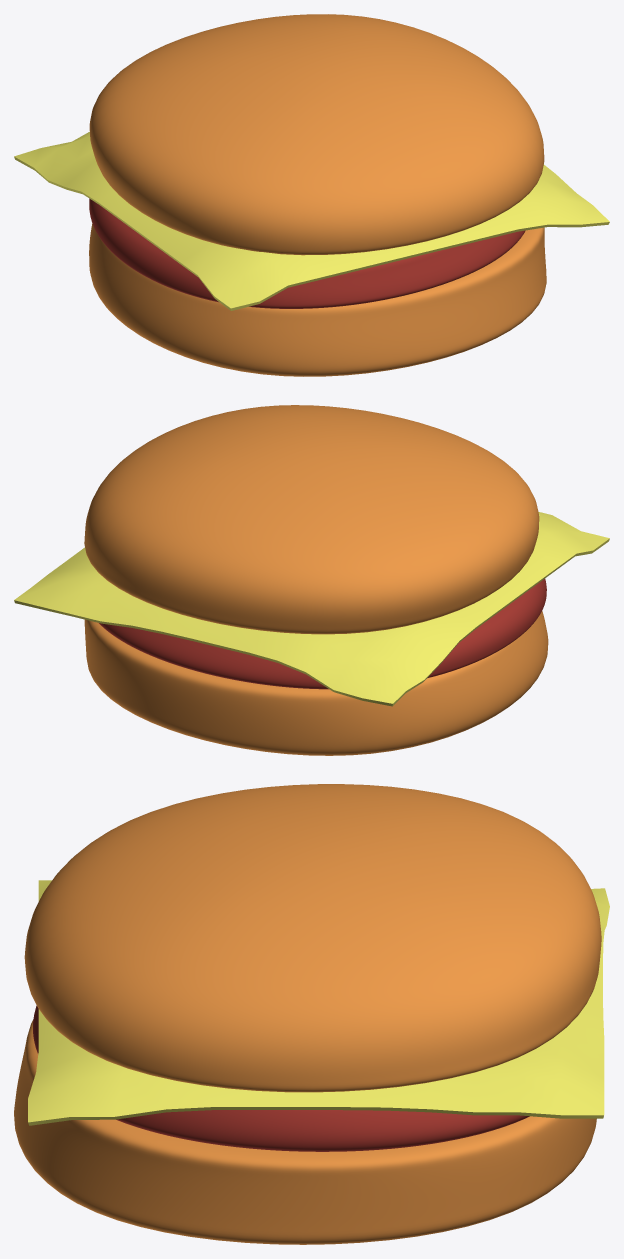
File: hamburger.fbx
The picture shows the model from 3 angles, top to bottom: view 1: azimuth 30°, elevation 25°; view 2: azimuth 150°, elevation 25°; view 3: azimuth 270°, elevation 25°; orthographic projection. The views are drawn at different scales.
Visible parts, largest first — view 1: Cube.002, Cube, Plane, Cube.001; view 2: Cube.002, Cube, Plane, Cube.001; view 3: Cube.002, Cube, Plane, Cube.001.
Boxes of the visible parts, x1,y1,x2,y2 form: Cube.002: (89,14,544,255); Cube: (89,223,546,376); Plane: (14,131,609,310); Cube.001: (89,198,525,308); Cube.002: (84,405,539,634); Cube: (84,611,548,755); Plane: (14,512,609,706); Cube.001: (99,579,546,689); Cube.002: (24,784,601,1092); Cube: (14,1019,596,1244); Plane: (28,880,609,1125); Cube.001: (33,1005,529,1151).
Size of the model in its own units: 1013 by 563 by 1021.
